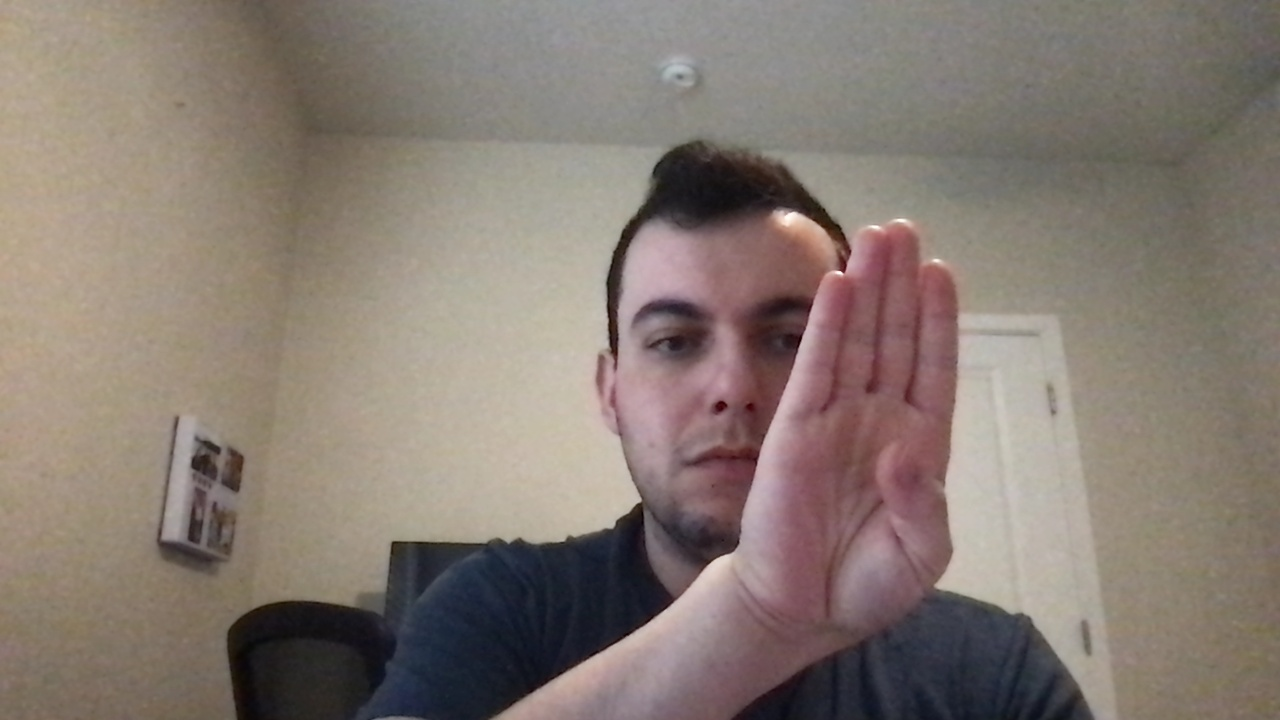b: (762, 220, 965, 647)
